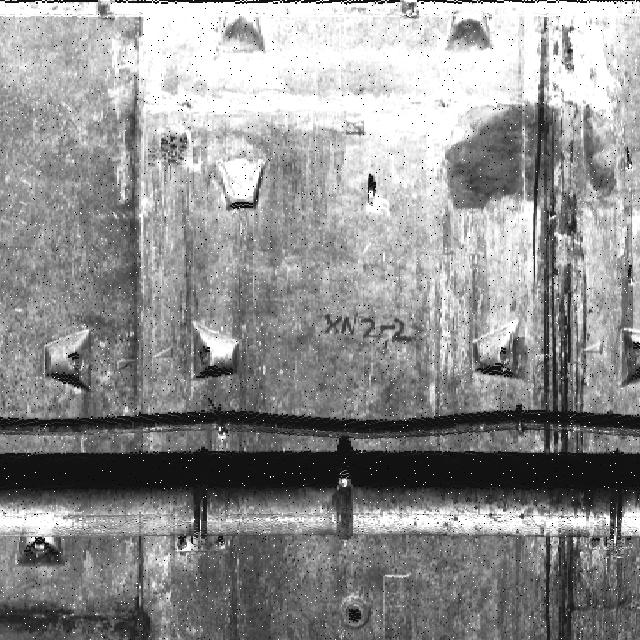leakage: (522, 217, 596, 639), (427, 81, 630, 213), (4, 583, 160, 639)
